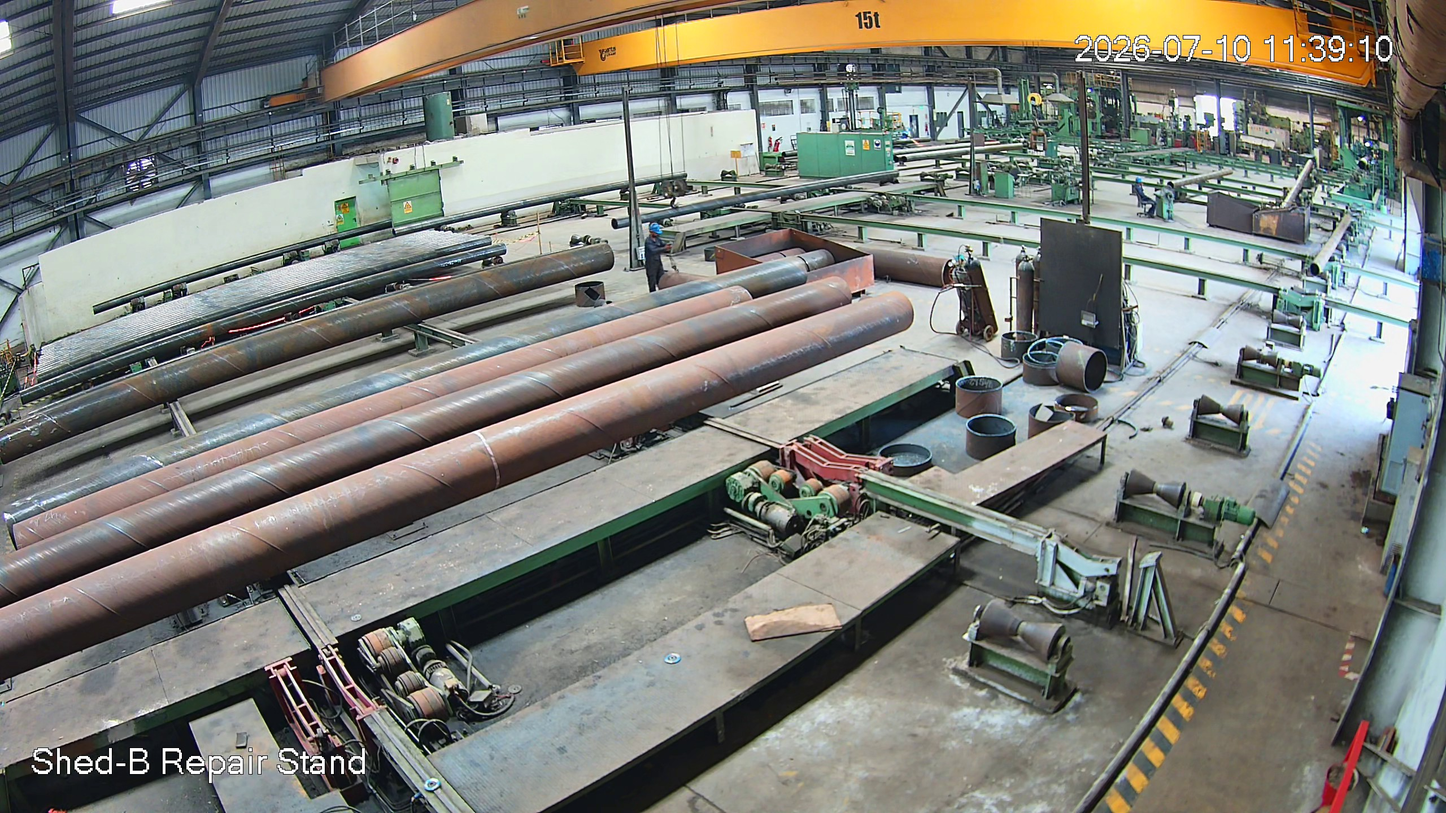Helmet: (646, 218, 666, 246), (1131, 170, 1149, 195)
Person: (641, 222, 676, 293), (1126, 174, 1160, 221)
